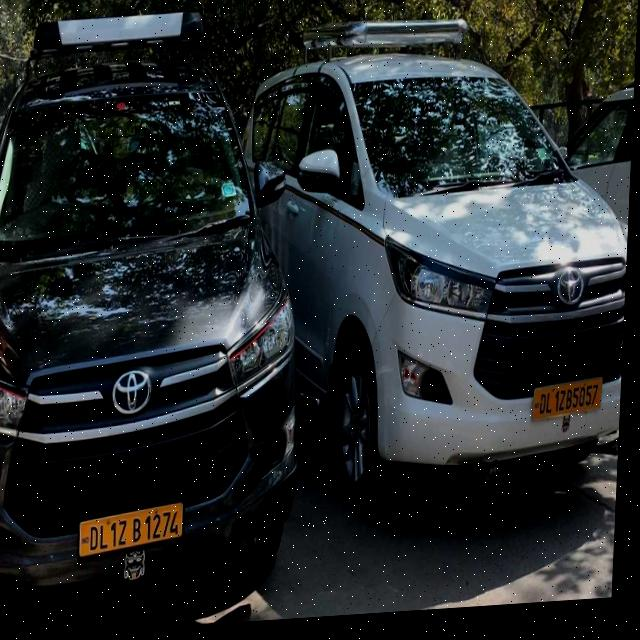plate: (75, 497, 198, 565), (528, 376, 618, 439)
